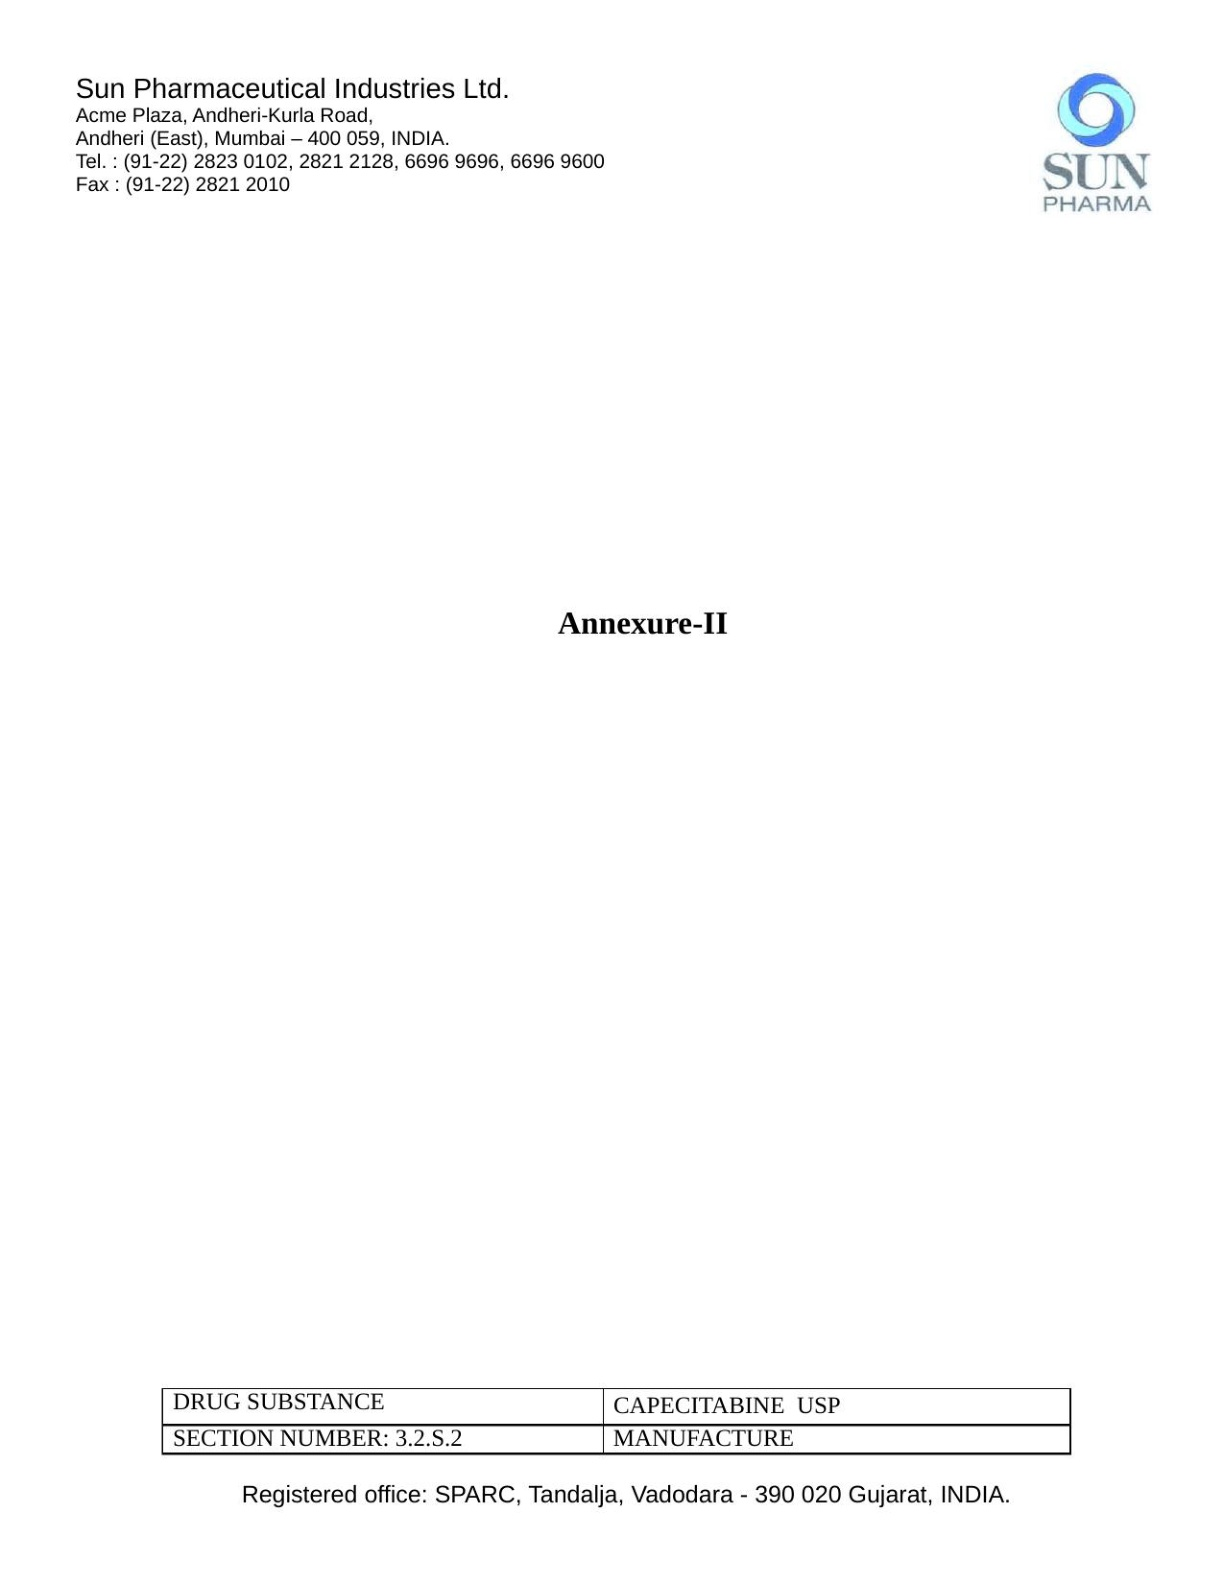full_lined: (161, 1387, 1072, 1456)
